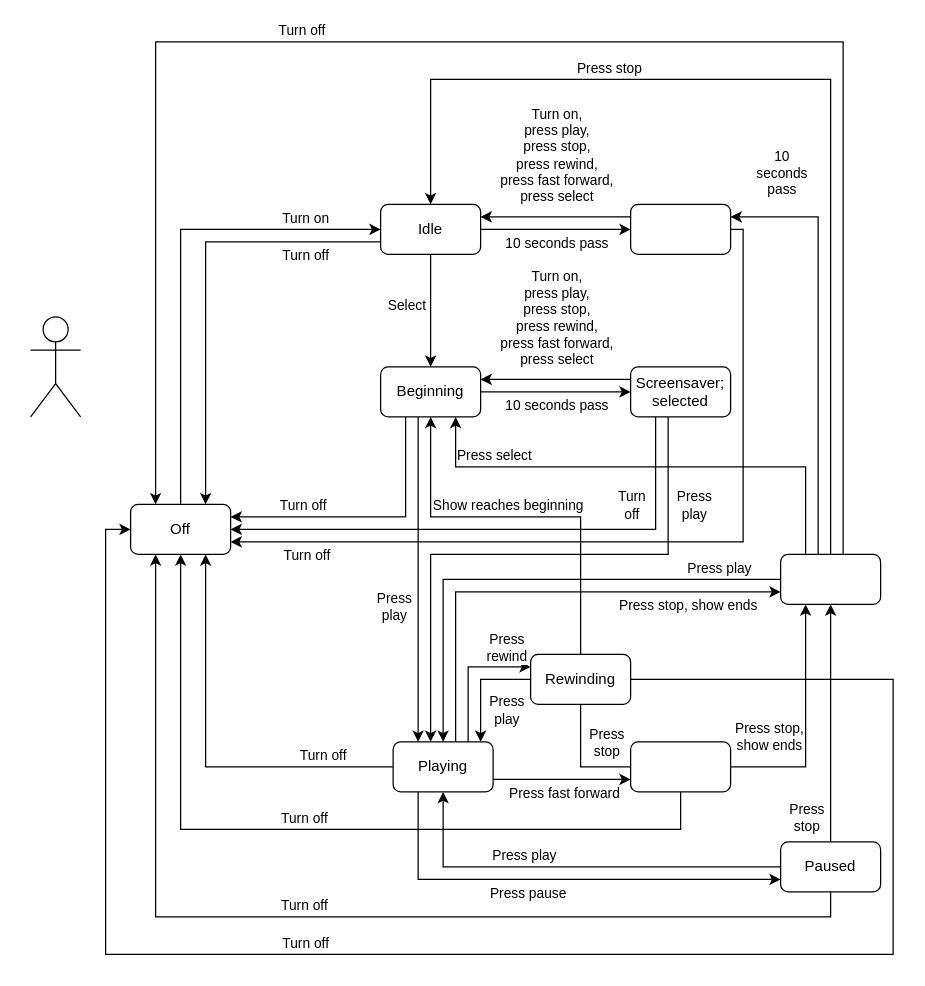
Image size: 925x986. Some labels were removed from this diagram. Each missing label, with the centre of its shape:
"Completed" goes at [830,578].
"Fast Forwarding" goes at [680,766].
"Screensaver; not selected" goes at [680,228].
"source of motivation" goes at [55,366].
